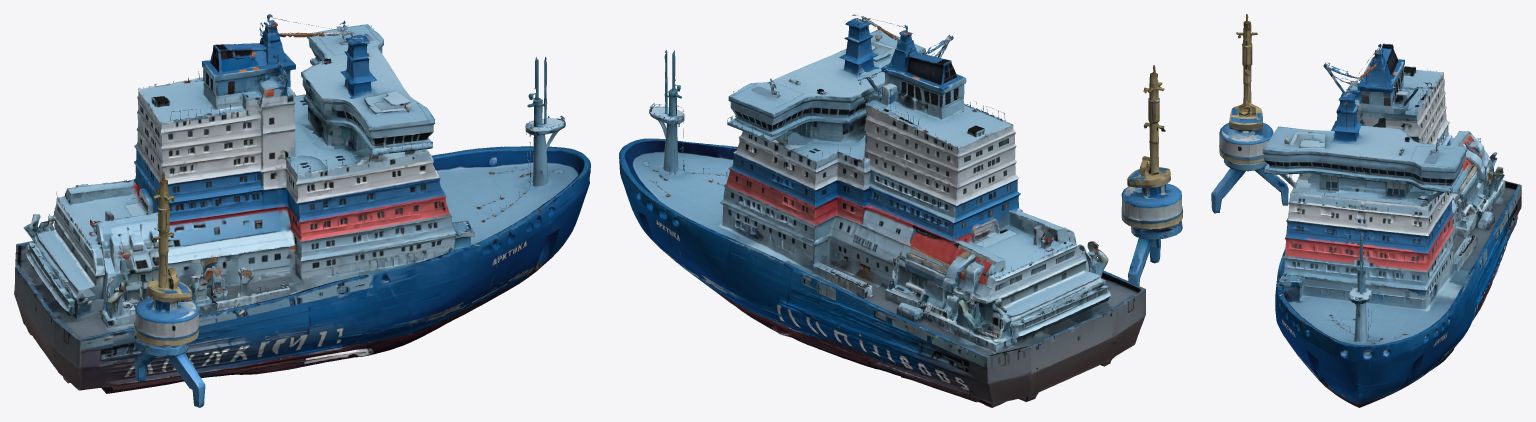
The model's file is transport-08.glb.
3 renders of one model, left to right at view 1: azimuth 30°, elevation 25°; view 2: azimuth 150°, elevation 25°; view 3: azimuth 270°, elevation 25°, orthographic. The views are drawn at different scales.
Bounding box in the file's own units: 1.77 × 1.04 × 1.06.
1 material, 1 textured.
